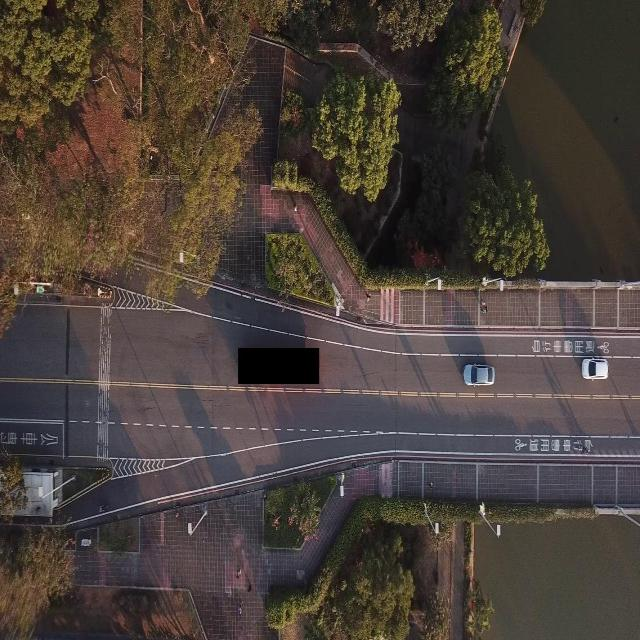car: (462, 361, 494, 387), (581, 355, 609, 380)
